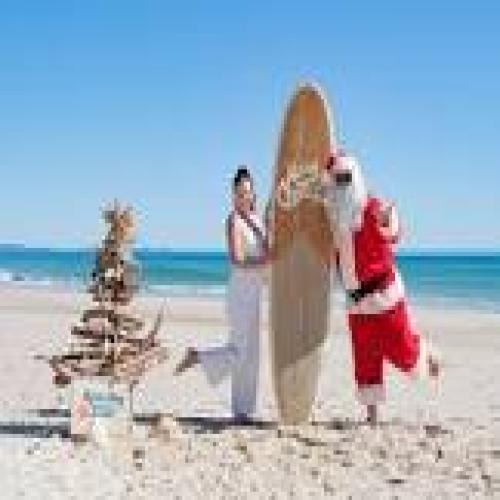Santa: (321, 151, 446, 434)
